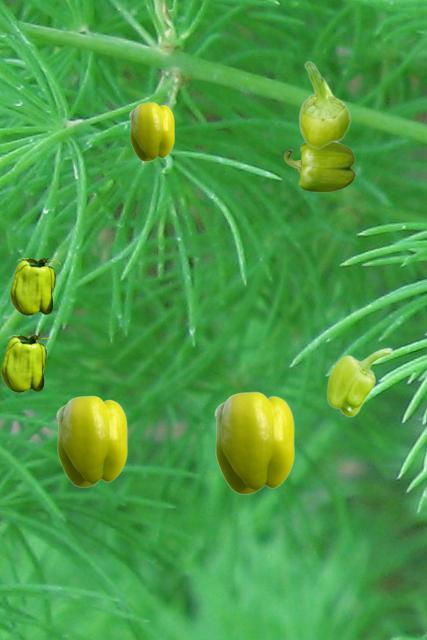bell_pepper: (214, 391, 293, 493), (56, 395, 126, 486), (326, 347, 392, 416), (298, 61, 350, 148), (284, 142, 354, 191), (1, 335, 50, 391), (10, 258, 59, 314), (129, 102, 173, 160)
